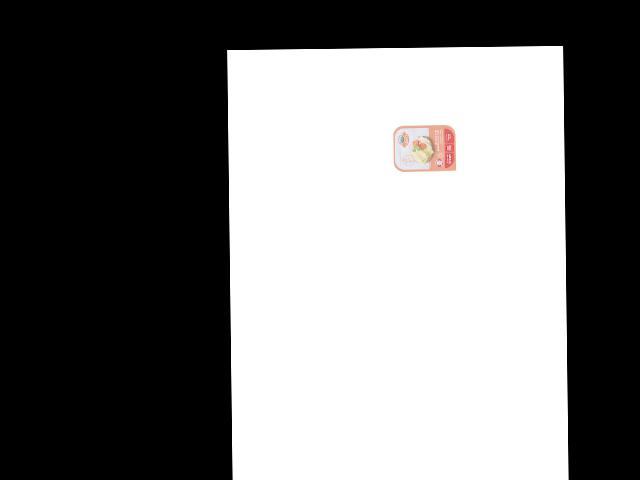cheese: (391, 121, 460, 172)
